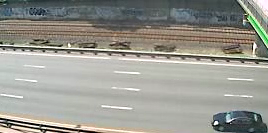car: (208, 109, 266, 133)
